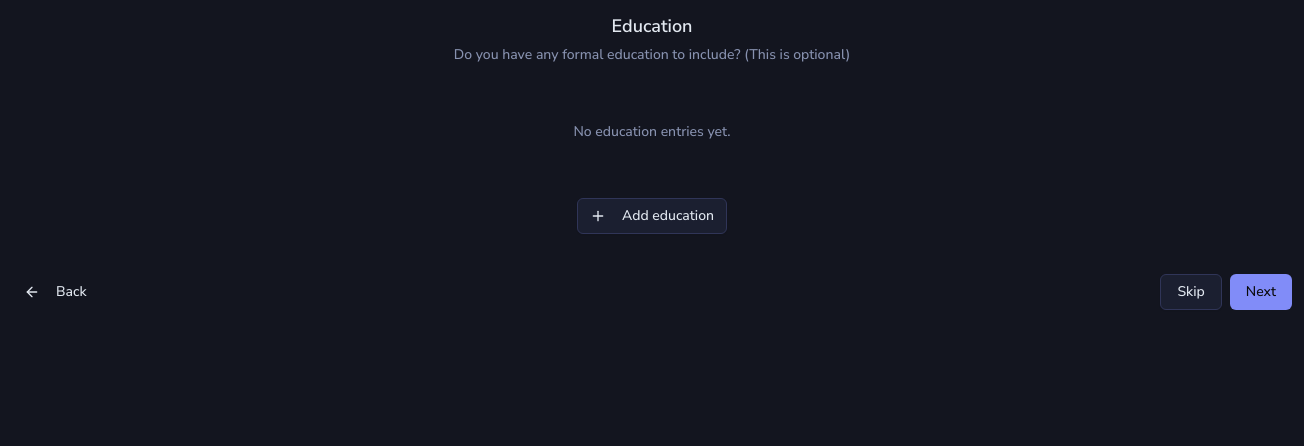
Test: EducationStep › add education flow › cancels add form and returns to list
What coordinates should you click on to do the following:
click the button "Add education"
I would click on:
 (652, 216)
Its box is [577,198,727,234].
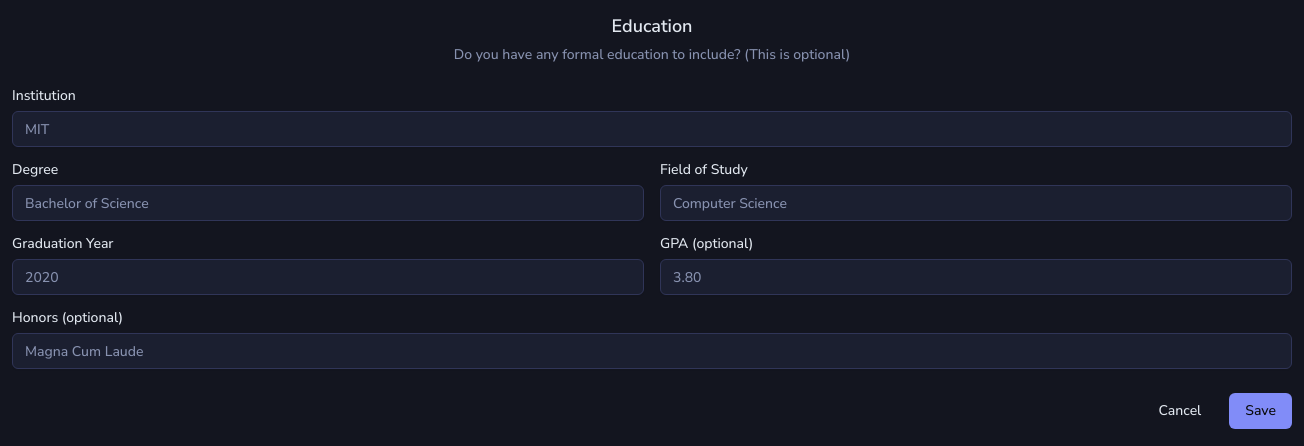
Expected: the element with test id "education-form" is shown
What coordinates should you click on to do the following:
click the button "Cancel"
I would click on:
 (1180, 411)
Its box is [1143,393,1217,429].
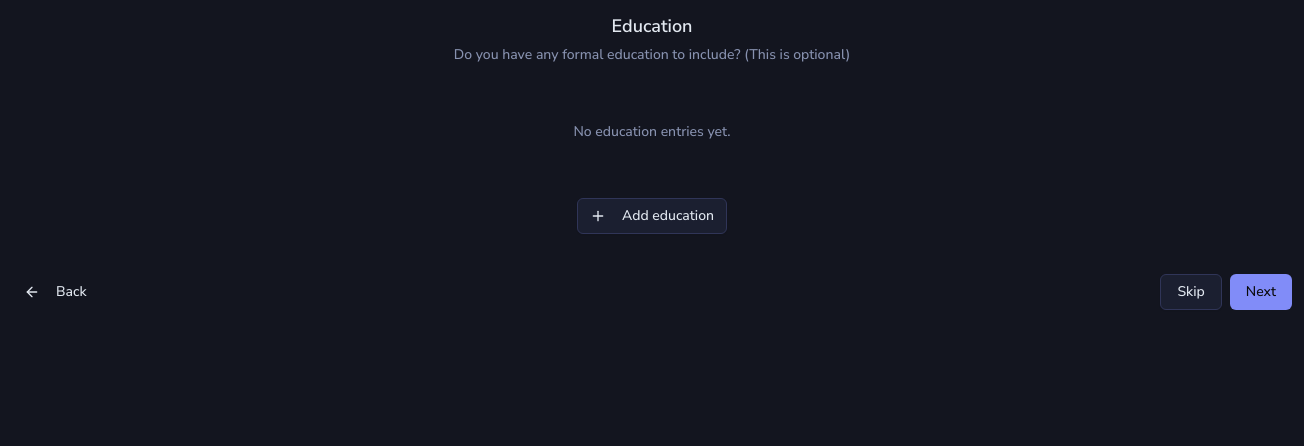
Expected: the element with test id "education-form" is gone
